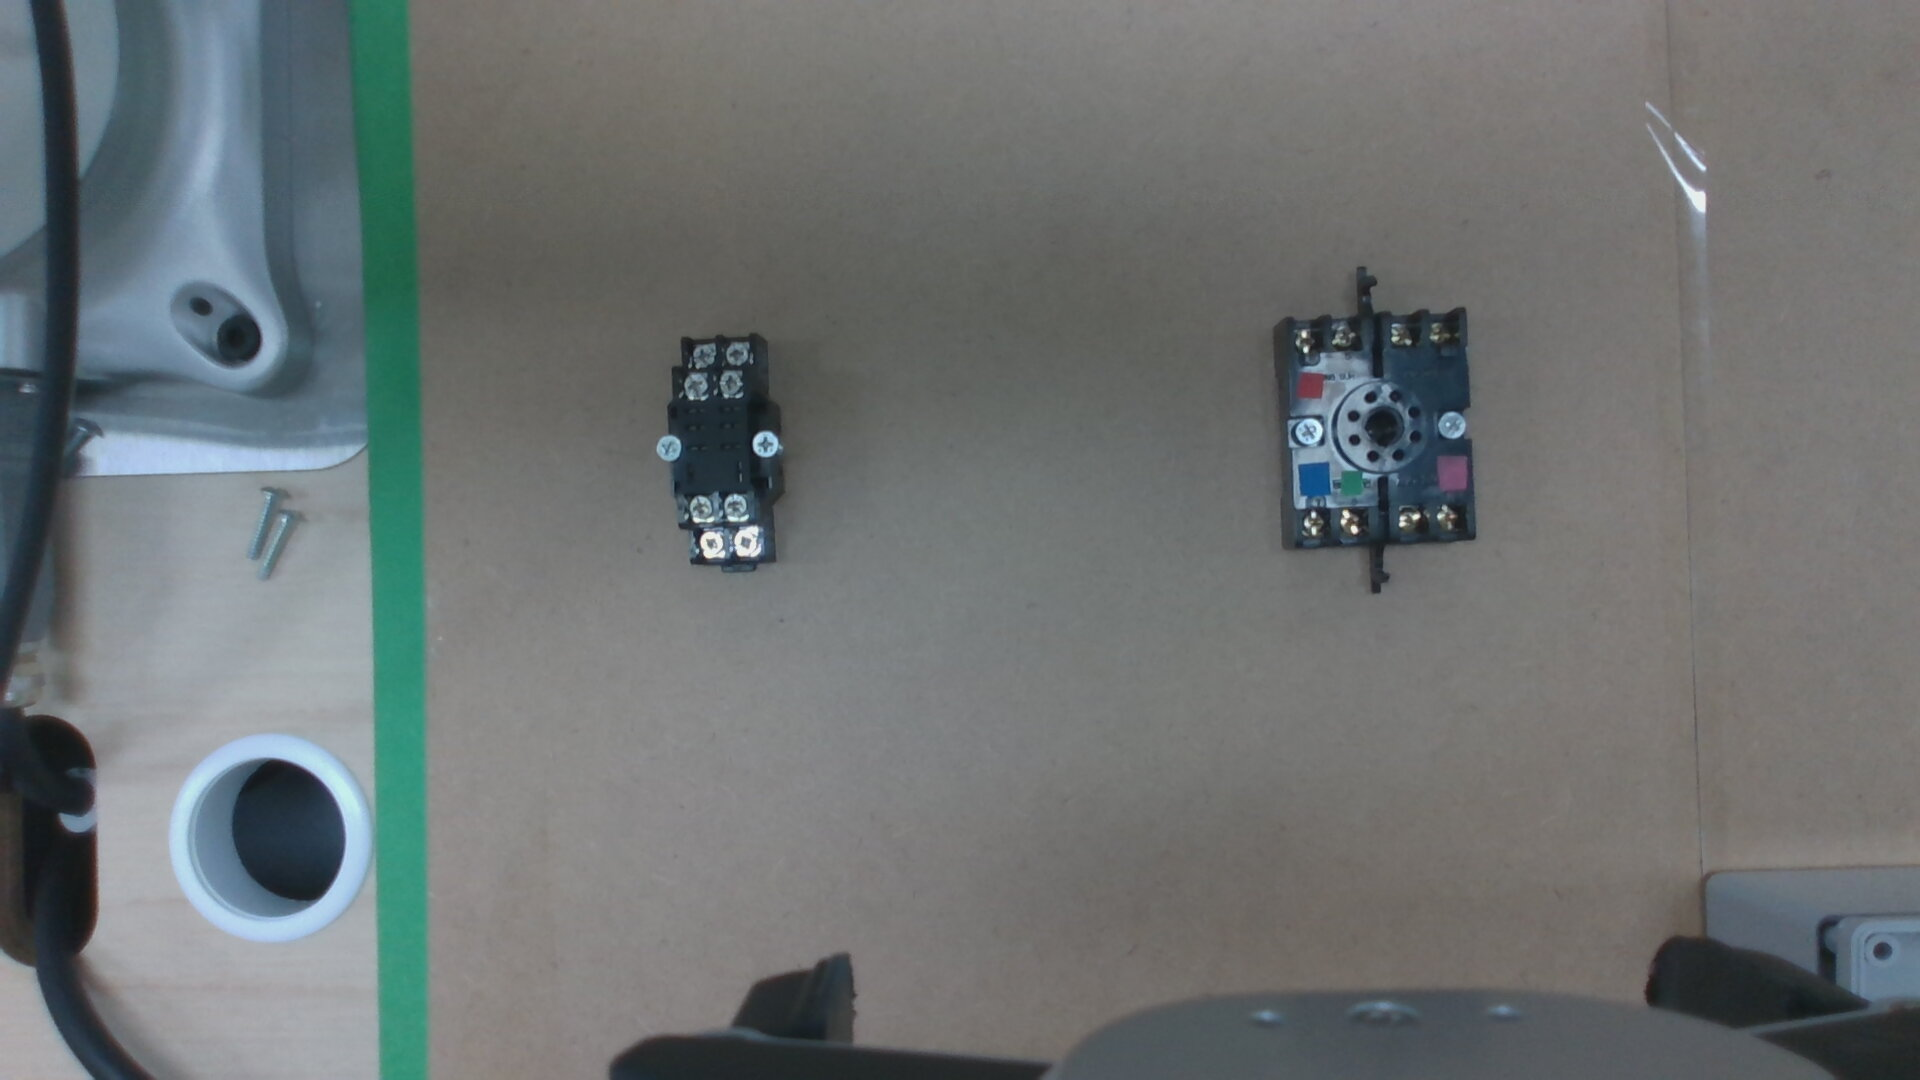relay 3: (724, 342, 749, 364)
relay 4: (688, 347, 713, 367)
relay 5: (735, 530, 758, 555)
relay 6: (698, 531, 723, 556)
relay 7: (723, 495, 746, 520)
relay 8: (687, 496, 712, 520)
